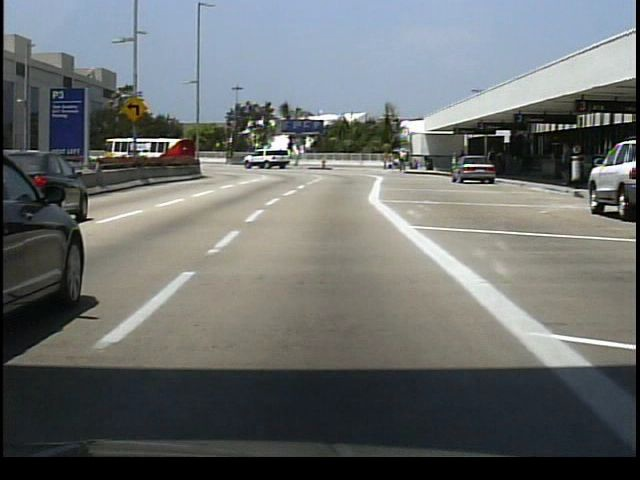person: (486, 149, 502, 182), (398, 145, 408, 174), (381, 147, 390, 171)
